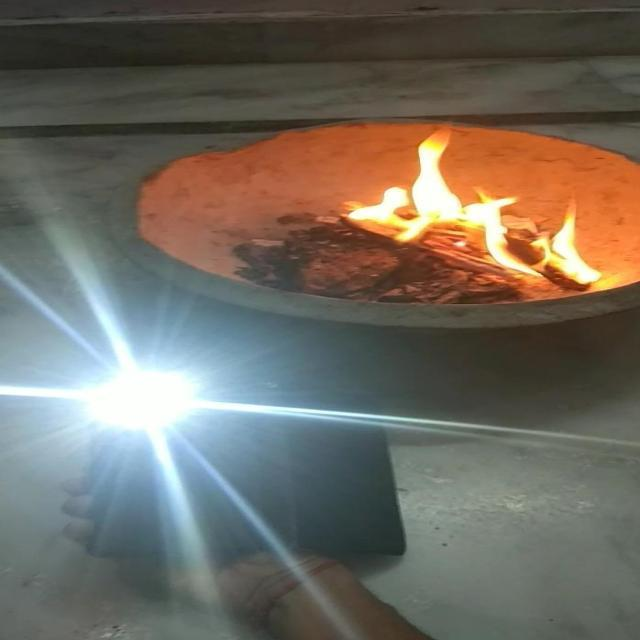smoke: (342, 128, 467, 244), (474, 185, 544, 278), (542, 203, 607, 286)
